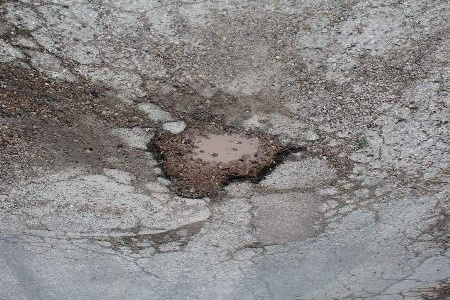pothole: (141, 113, 304, 204)
